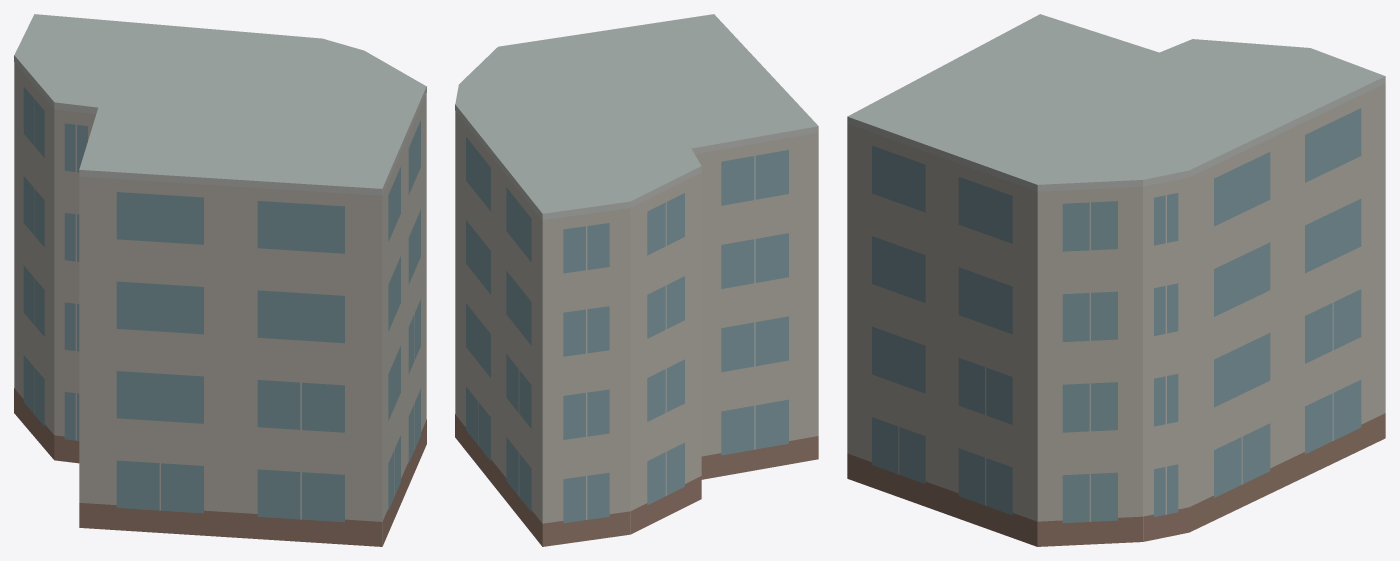
File: survey-upis-32643666.glb
3 views of the same model, side by side, from view 1: azimuth 30°, elevation 25°; view 2: azimuth 150°, elevation 25°; view 3: azimuth 270°, elevation 25° (orthographic). The views are drawn at different scales.
Parts seen in each view (by area): view 1: survey-upis-32643666.tmp; view 2: survey-upis-32643666.tmp; view 3: survey-upis-32643666.tmp.
Boxes of the visible parts, left/top/right/bottom form: survey-upis-32643666.tmp: left=14, top=14, right=426, bottom=546; survey-upis-32643666.tmp: left=455, top=14, right=818, bottom=546; survey-upis-32643666.tmp: left=847, top=14, right=1385, bottom=546.
Size of the model in its own units: 12.96 by 12.8 by 17.26.
